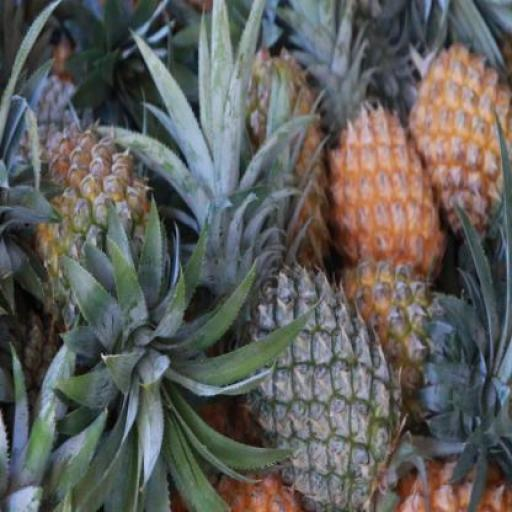------------------------------: (24, 126, 162, 337)
Pineapple - v8 v1: (412, 39, 510, 255), (329, 107, 444, 288)
